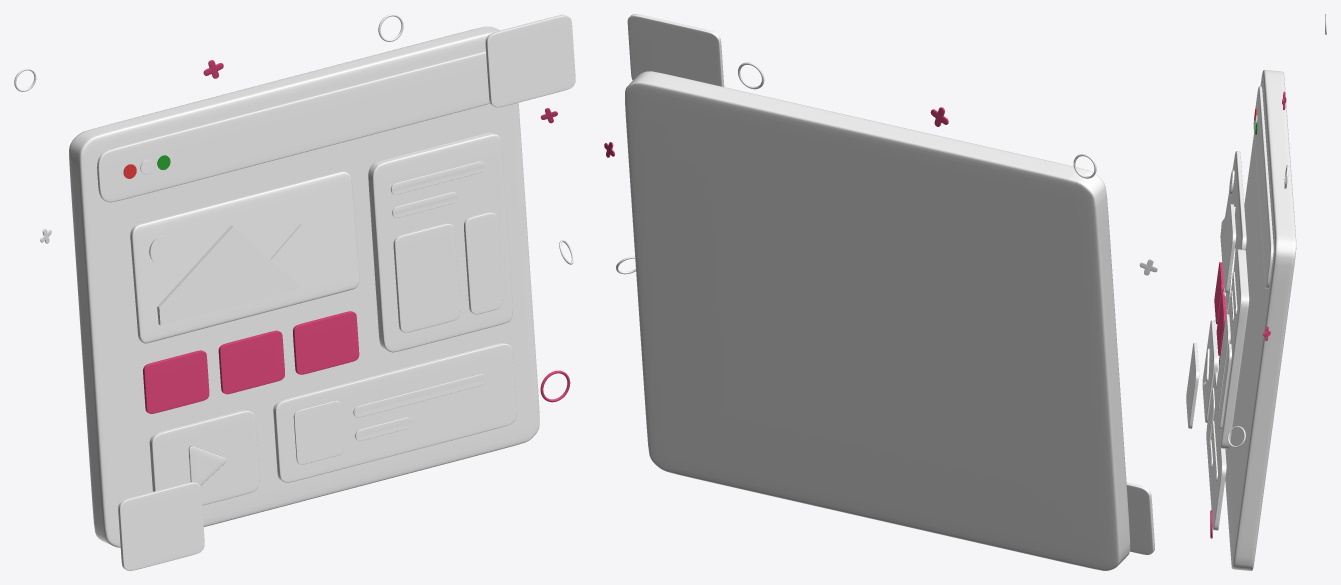
Rendered from landing-page-3d-animated-icon-830189640255.glb.
3 renders of one model, left to right at view 1: azimuth 30°, elevation 25°; view 2: azimuth 150°, elevation 25°; view 3: azimuth 270°, elevation 25°, orthographic. The views are drawn at different scales.
Parts seen in each view (by area): view 1: Window Frame, Window Frame.001, Window Frame Image, Window Frame Line text shape, Window Frame Chart, Window Video Frame, Window Frame ImageWindow Frame Image, Window Frame.003, Window Frame.009, Window Frame Chart.001, Window Frame Chart.003, Window Frame.002 (+9 smaller); view 2: Window Frame, Window Frame.003, Window Frame.009; view 3: Window Frame, Window Frame Chart, Window Frame.001, Window Frame Line text shape, Window Frame Image, Window Video Frame, Window Frame.003, Window Frame.009, Window Frame Chart.001, Window Frame Chart.003, Window Frame.002, Window Frame.004 (+3 smaller).
Boxes of the visible parts, x1,y1,x2,y2 form: Window Frame: (69,26,539,547); Window Frame.001: (97,51,489,202); Window Frame Image: (130,171,359,343); Window Frame Line text shape: (273,342,516,482); Window Frame Chart: (368,132,512,352); Window Video Frame: (149,410,259,505); Window Frame ImageWindow Frame Image: (157,225,301,325); Window Frame.003: (485,14,575,107); Window Frame.009: (118,482,204,570); Window Frame Chart.001: (393,223,460,332); Window Frame Chart.003: (464,212,502,314); Window Frame.002: (143,350,209,413); Window Frame: (625,71,1130,570); Window Frame.003: (627,14,724,86); Window Frame.009: (1126,482,1154,554); Window Frame: (1225,70,1296,570); Window Frame Chart: (1217,249,1249,448); Window Frame.001: (1253,86,1273,288); Window Frame Line text shape: (1206,372,1226,530); Window Frame Image: (1225,151,1246,313); Window Video Frame: (1202,320,1218,422); Window Frame.003: (1222,204,1236,293); Window Frame.009: (1186,343,1199,428); Window Frame Chart.001: (1216,314,1230,411); Window Frame Chart.003: (1218,343,1231,429); Window Frame.002: (1214,262,1223,324); Window Frame.004: (1216,293,1226,355).
Bounding box in the file's own units: 6.43 × 5.24 × 1.78.
